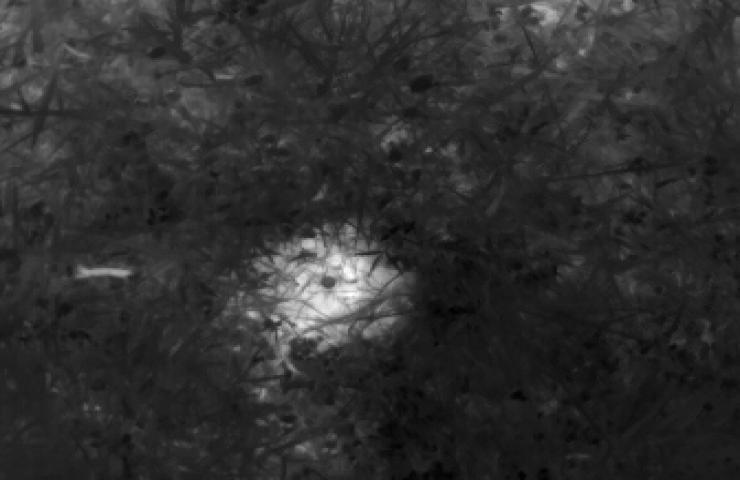landmines: (244, 218, 418, 349)
